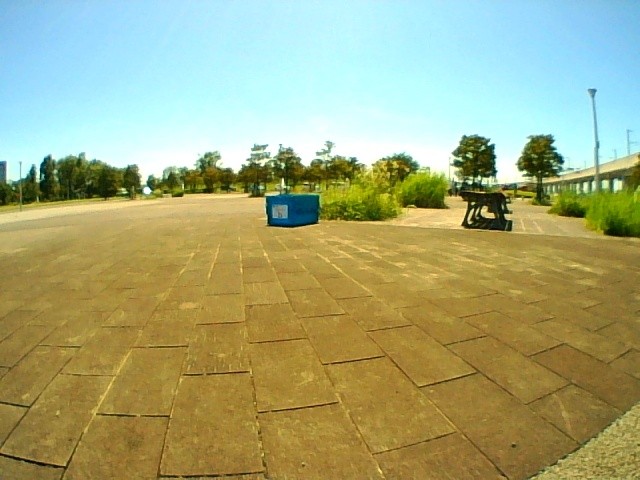blue_box: (267, 195, 319, 227)
tag_b: (272, 205, 287, 219)
